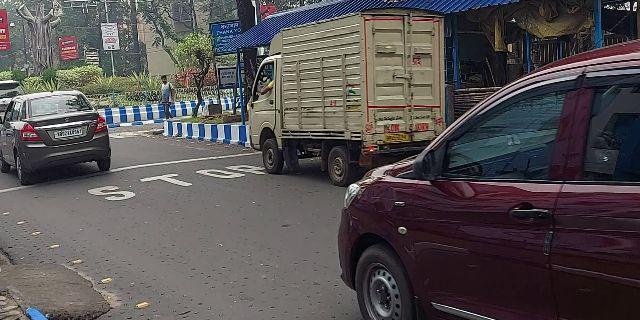Car: (335, 51, 640, 320), (1, 94, 120, 184)
Minitruck: (245, 10, 451, 182)
